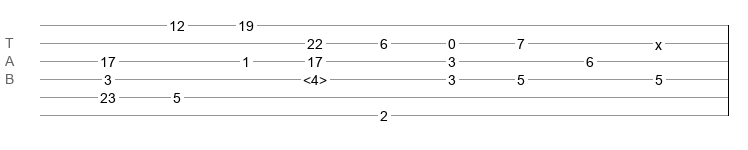0: (448, 36, 456, 46)
1: (242, 54, 250, 64)
12: (169, 18, 185, 28)
17: (100, 54, 116, 64), (307, 54, 323, 64)
19: (238, 18, 254, 28)
2: (380, 108, 388, 118)
22: (307, 36, 323, 46)
23: (100, 90, 116, 100)
3: (104, 72, 112, 82), (448, 72, 456, 82), (448, 54, 456, 64)
5: (173, 90, 181, 100), (517, 72, 525, 82), (655, 72, 663, 82)
6: (380, 36, 388, 46), (586, 54, 594, 64)
7: (517, 36, 525, 46)
harmonic: (303, 72, 327, 82)
x: (655, 37, 662, 45)
